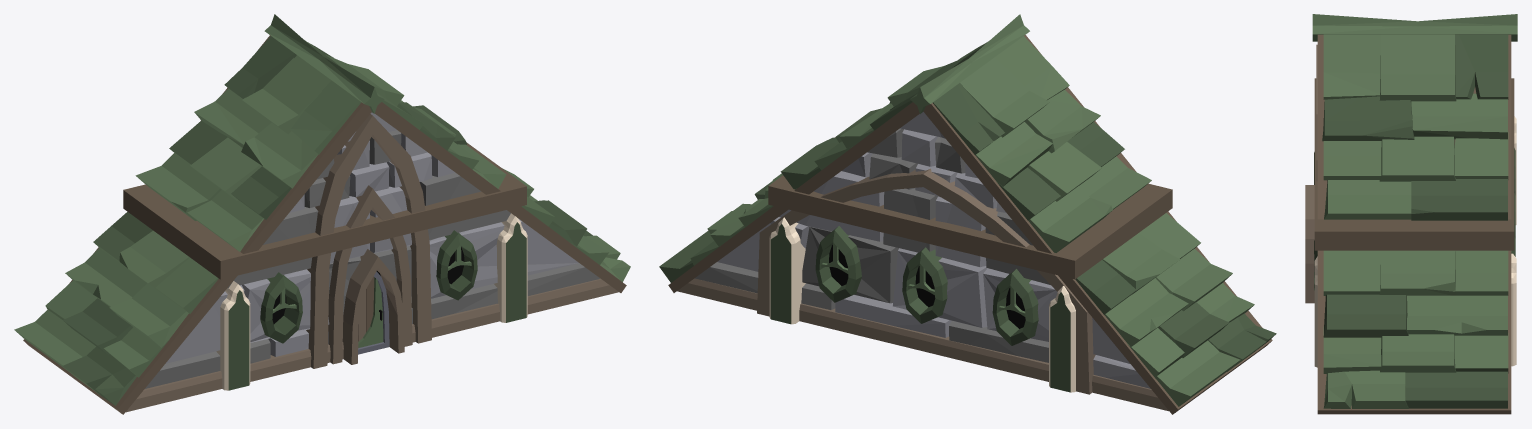
Rendered from _kazarm_1.fbx.
3 renders of one model, left to right at view 1: azimuth 30°, elevation 25°; view 2: azimuth 150°, elevation 25°; view 3: azimuth 270°, elevation 25°, orthographic. The views are drawn at different scales.
Parts seen in each view (by area): view 1: kazarm_1; view 2: kazarm_1; view 3: kazarm_1.
Part boxes in pixels (bbox=[...]): kazarm_1: bbox=[14, 14, 630, 414]; kazarm_1: bbox=[659, 14, 1276, 414]; kazarm_1: bbox=[1305, 14, 1517, 414].
Size of the model in its own units: 1571 by 755 by 527.
